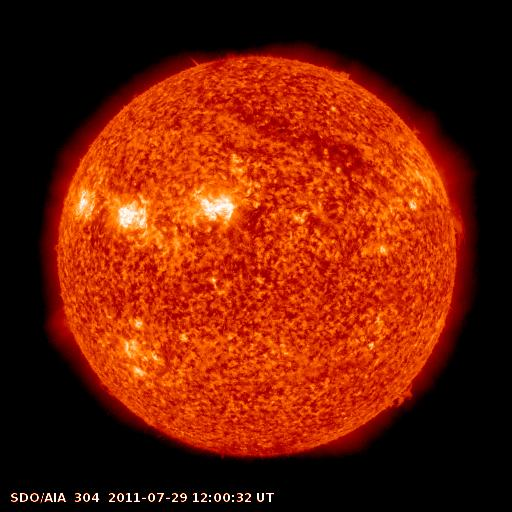prominence: (438, 200, 474, 258), (382, 378, 422, 416)
